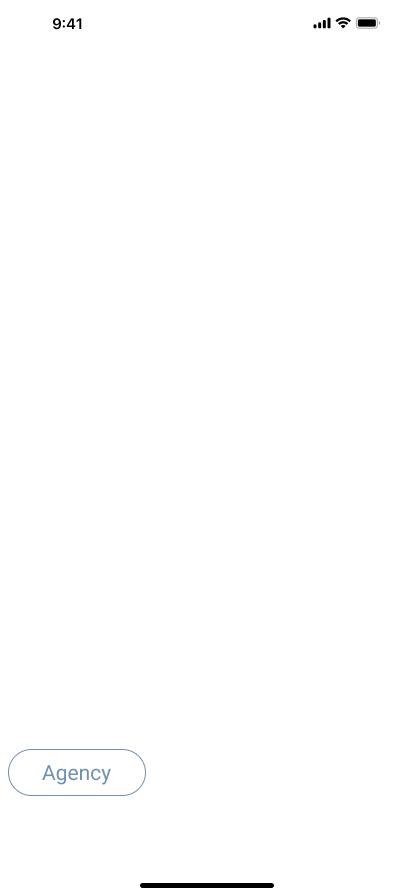Buttons: (8, 749, 154, 796)
Home Indicator: (0, 862, 414, 896)
Status Bar: (0, 0, 414, 44)
